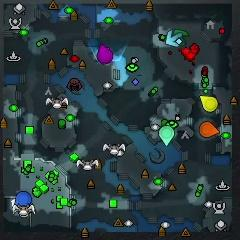p1: (15, 191, 32, 206)
p2: (160, 125, 174, 146)
p3: (98, 44, 113, 65)
p4: (200, 96, 218, 112)
p5: (200, 121, 219, 138)
x3: (165, 30, 182, 46)
x4: (173, 28, 188, 46)
